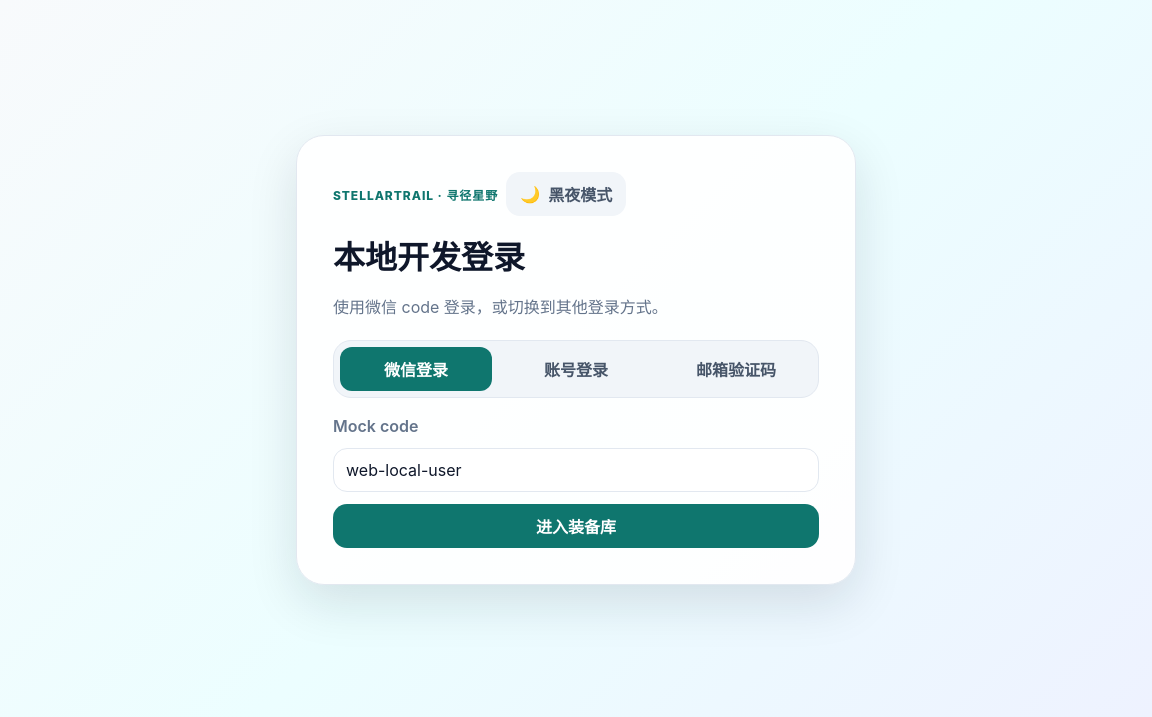
Test: App › logs in with local mock code and renders the gear dashboard
Expected: the heading "本地开发登录" is shown, [333,238,525,277]
Step 1. Click the button "进入装备库" → [576, 526], box [333,504,819,548]
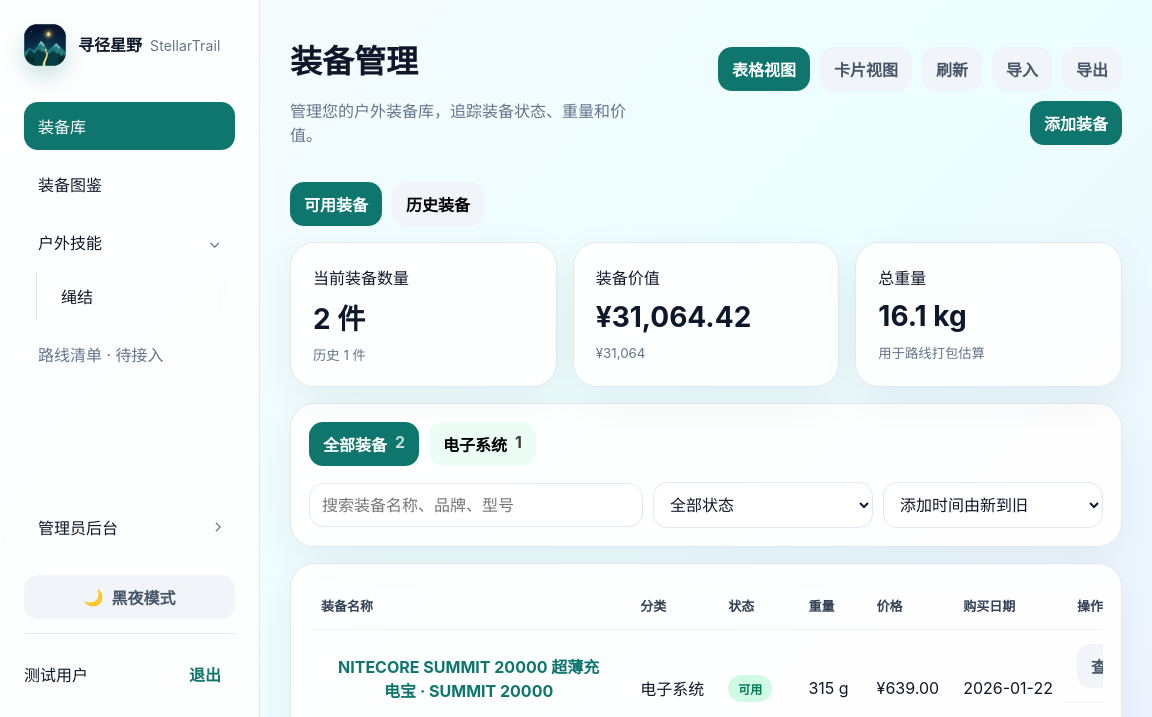
Expected: the heading "装备管理" is shown, [290,42,418,81]
Expected: the text "当前装备数量" is shown, [313,268,409,288]
Expected: the text "2 件" is shown, [313,302,365,336]
